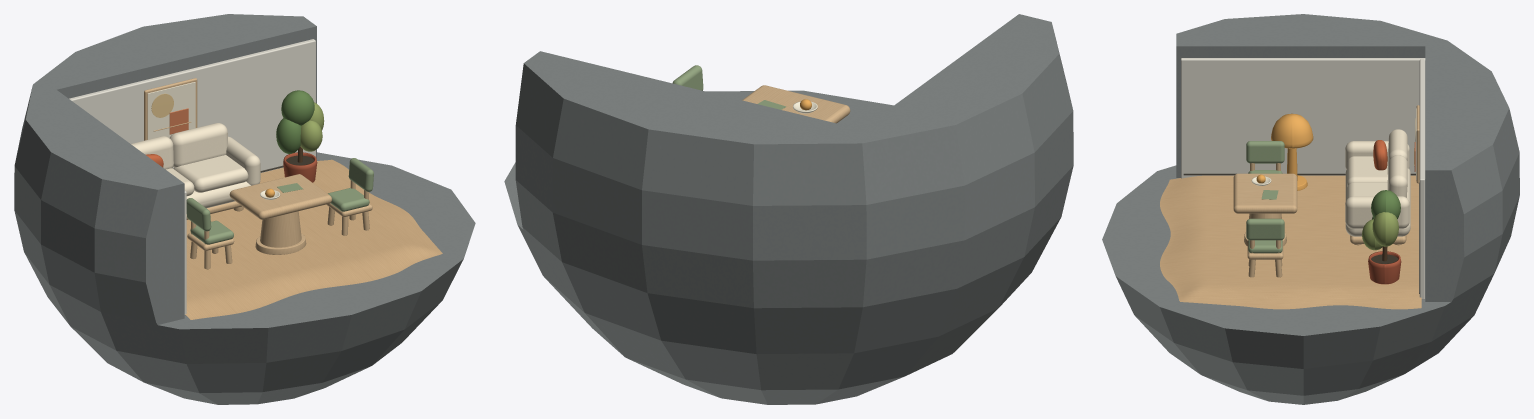
The model's file is roomlet-original.glb.
3 renders of one model, left to right at view 1: azimuth 30°, elevation 25°; view 2: azimuth 150°, elevation 25°; view 3: azimuth 270°, elevation 25°, orthographic. The views are drawn at different scales.
Parts seen in each view (by area): view 1: Shell_Stone_LowPoly, Floor_Rectangular_Oak, Wall_Back, Table_Oak_Top, Sofa_Back_02, Sofa_Seat_02, Art_Matte_Field, Table_Tapered_Pedestal, Plant_Leaf_Cluster_3, Sofa_Arm_02, Sofa_Back_01, Sofa_Puffy_Base (+11 smaller); view 2: Shell_Stone_LowPoly, Table_Oak_Top; view 3: Shell_Stone_LowPoly, Floor_Rectangular_Oak, Wall_Left, Table_Oak_Top, Wall_Back, Sofa_Arm_02, Lamp_Mushroom_Dome, Sofa_Seat_01, Chair_01_Round_Back, Chair_02_Round_Back, Plant_Rounded_Pot, Sofa_Back_02 (+8 smaller).
Part boxes in pixels (bbox=[...]): Shell_Stone_LowPoly: bbox=[14, 14, 475, 404]; Floor_Rectangular_Oak: bbox=[185, 159, 442, 319]; Wall_Back: bbox=[69, 39, 315, 172]; Table_Oak_Top: bbox=[229, 174, 331, 219]; Sofa_Back_02: bbox=[169, 123, 227, 167]; Sofa_Seat_02: bbox=[173, 155, 248, 192]; Art_Matte_Field: bbox=[147, 82, 195, 139]; Table_Tapered_Pedestal: bbox=[260, 211, 301, 247]; Plant_Leaf_Cluster_3: bbox=[281, 90, 314, 125]; Sofa_Arm_02: bbox=[226, 136, 260, 185]; Sofa_Back_01: bbox=[131, 136, 173, 169]; Sofa_Puffy_Base: bbox=[186, 181, 250, 208]; Shell_Stone_LowPoly: bbox=[504, 14, 1073, 404]; Table_Oak_Top: bbox=[742, 85, 850, 123]; Shell_Stone_LowPoly: bbox=[1102, 14, 1519, 404]; Floor_Rectangular_Oak: bbox=[1160, 175, 1421, 309]; Wall_Left: bbox=[1181, 58, 1425, 179]; Table_Oak_Top: bbox=[1233, 173, 1297, 213]; Wall_Back: bbox=[1419, 59, 1424, 299]; Sofa_Arm_02: bbox=[1345, 196, 1409, 228]; Lamp_Mushroom_Dome: bbox=[1271, 113, 1313, 148]; Sofa_Seat_01: bbox=[1347, 156, 1387, 186]; Chair_01_Round_Back: bbox=[1246, 141, 1284, 163]; Chair_02_Round_Back: bbox=[1246, 218, 1284, 240]; Plant_Rounded_Pot: bbox=[1368, 251, 1401, 284]; Sofa_Back_02: bbox=[1387, 155, 1407, 197].
Bounding box in the file's own units: 7.09 × 4.63 × 6.41.
18 materials, 6 textured.
